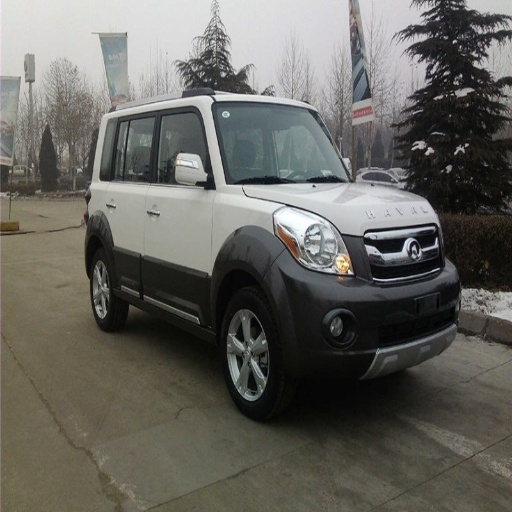front_bumper: (271, 223, 460, 379)
front_right_door: (143, 105, 216, 318)
front_right_light: (275, 208, 355, 277)
